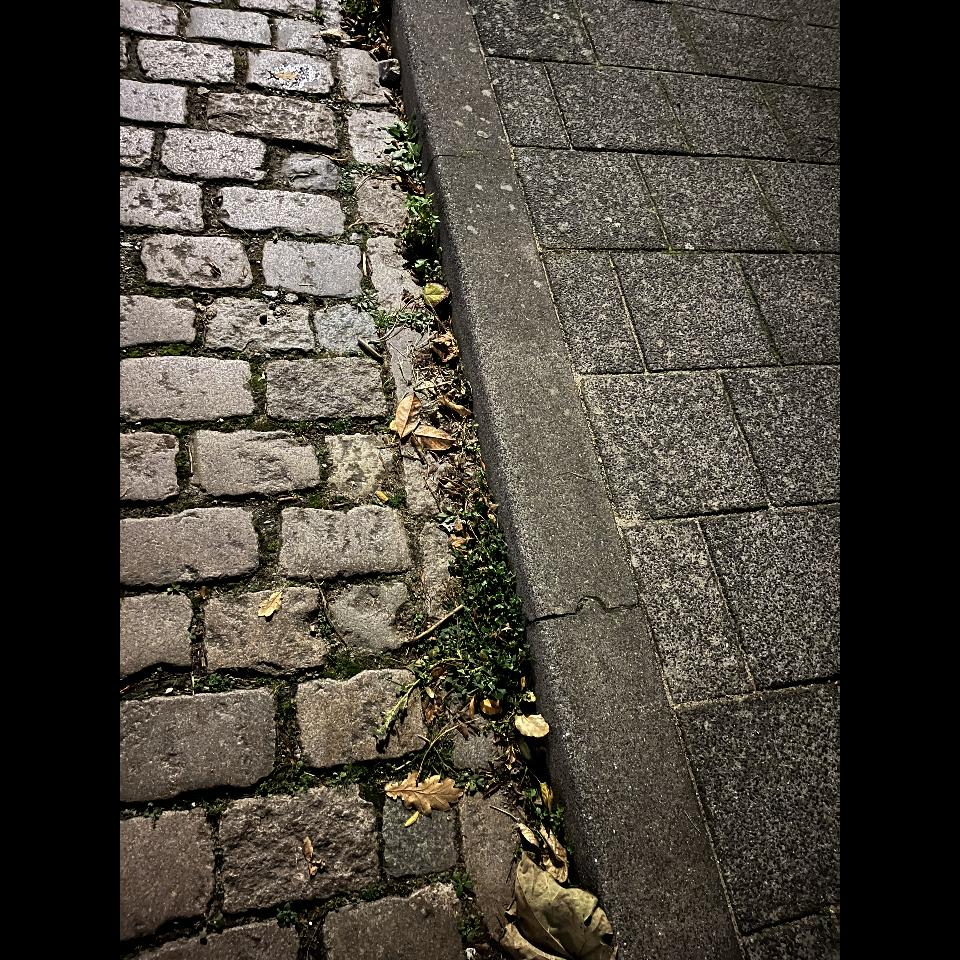weed: (409, 440, 533, 721), (390, 131, 440, 290)
